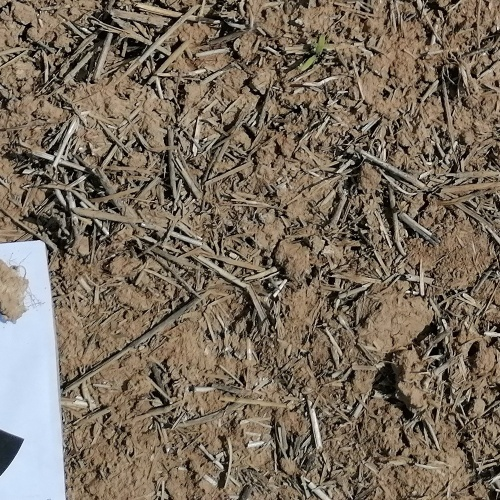beet: (302, 33, 325, 70)
